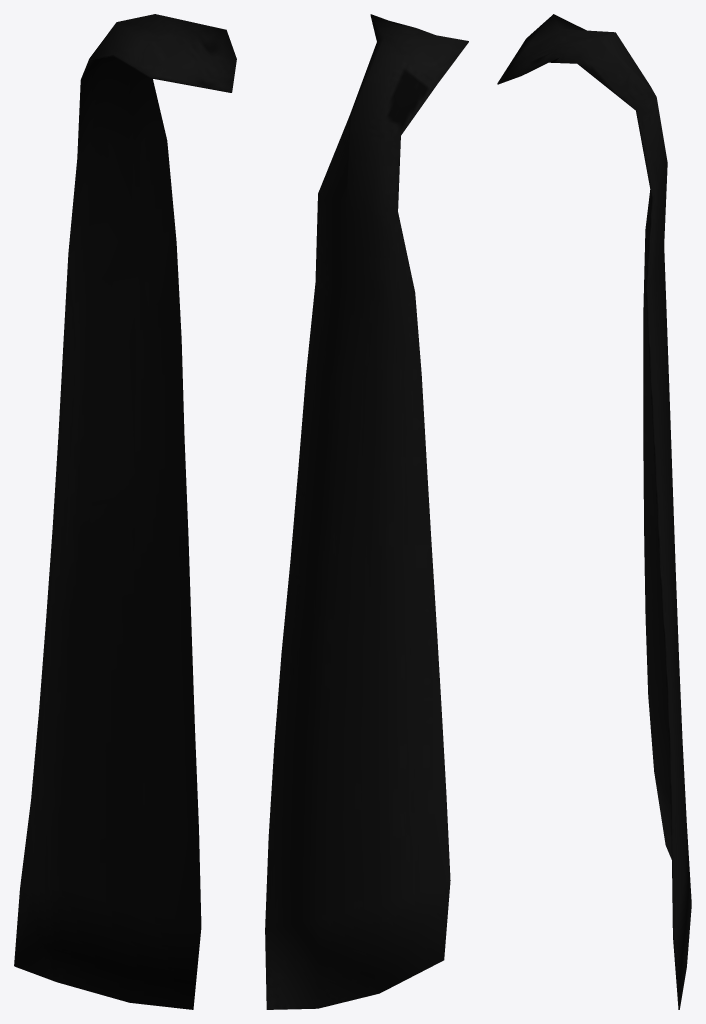
The model's file is sideDrape2.fbx.
3 renders of one model, left to right at view 1: azimuth 30°, elevation 25°; view 2: azimuth 150°, elevation 25°; view 3: azimuth 270°, elevation 25°, orthographic. The views are drawn at different scales.
Parts seen in each view (by area): view 1: polySurface7; view 2: polySurface7; view 3: polySurface7.
Part boxes in pixels (left/top/right/bottom): polySurface7: left=14, top=14, right=236, bottom=1009; polySurface7: left=265, top=14, right=468, bottom=1009; polySurface7: left=497, top=14, right=691, bottom=1009.
Size of the model in its own units: 1.51 by 7.93 by 1.5.
